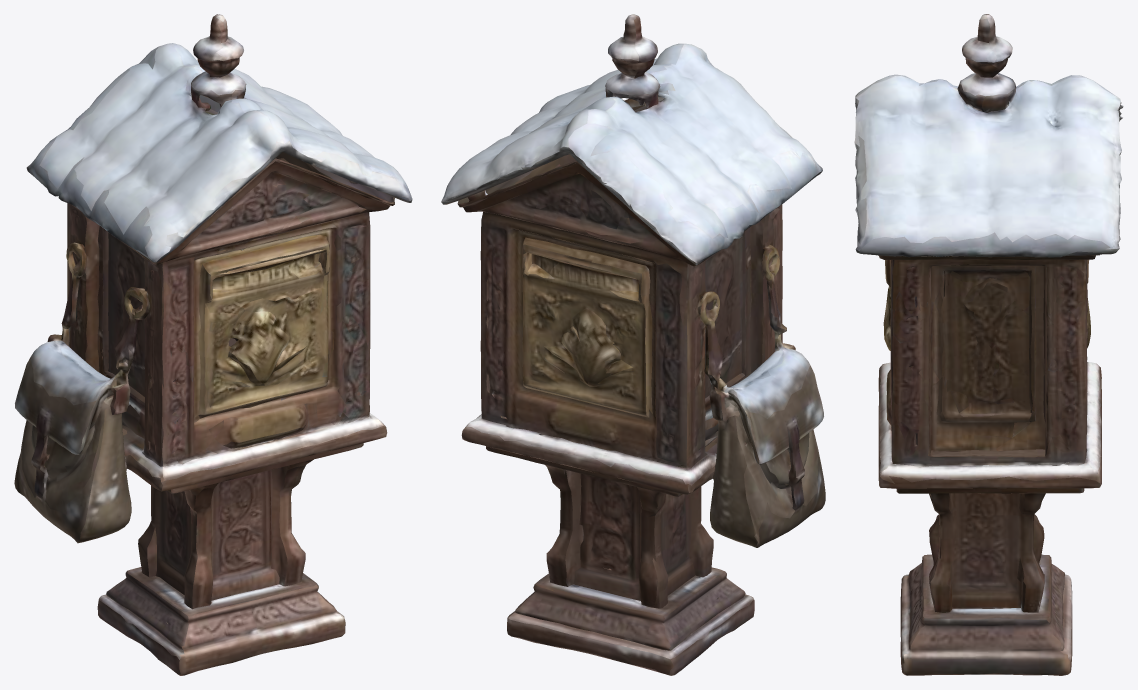
The model's file is postbox.glb.
3 views of the same model, side by side, from view 1: azimuth 30°, elevation 25°; view 2: azimuth 150°, elevation 25°; view 3: azimuth 270°, elevation 25° (orthographic).
Parts seen in each view (by area): view 1: geometry_0; view 2: geometry_0; view 3: geometry_0.
Boxes of the visible parts, <box> form: geometry_0: <box>14,14,412,675</box>; geometry_0: <box>441,14,825,675</box>; geometry_0: <box>854,14,1123,675</box>.
Bounding box in the file's own units: 0.7194 × 1.35 × 0.5307.
Materials: 1 (1 with a texture image).
